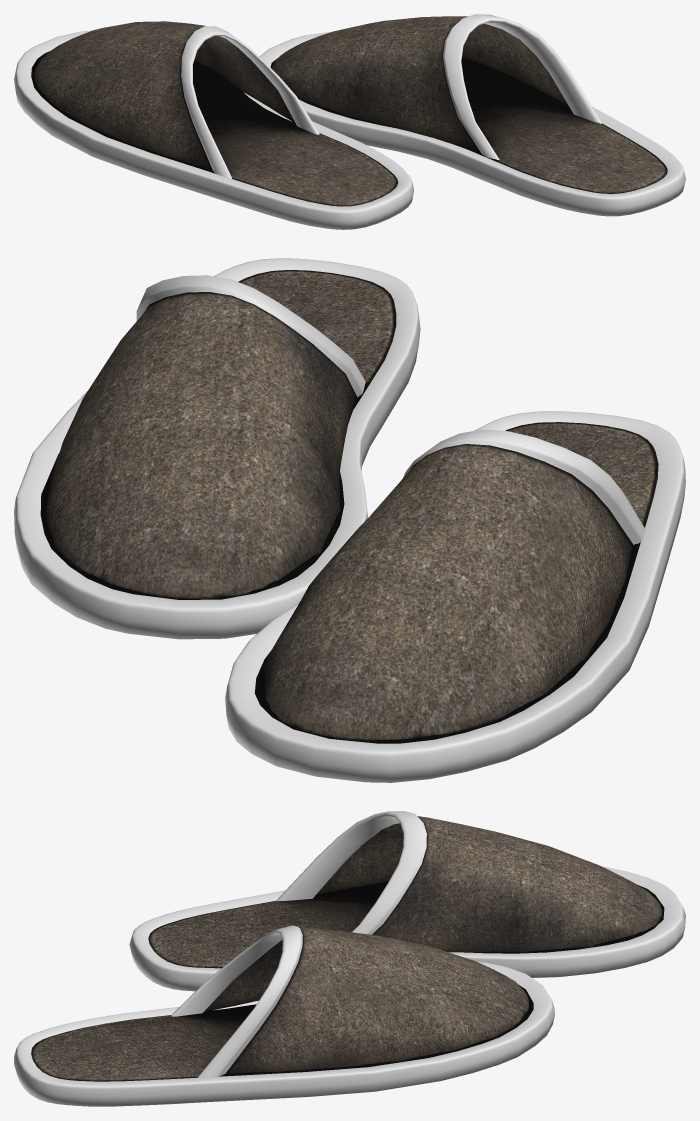
Rendered from slippers.fbx.
3 views of the same model, one above another, from view 1: azimuth 30°, elevation 25°; view 2: azimuth 150°, elevation 25°; view 3: azimuth 270°, elevation 25° (orthographic). The views are drawn at different scales.
Visible parts, largest first — view 1: Object_3, Object_2; view 2: Object_3, Object_2; view 3: Object_3, Object_2.
Part boxes in pixels (x1,y1,x2,y2): Object_3: (31, 16, 667, 206); Object_2: (14, 14, 685, 229); Object_3: (40, 270, 658, 743); Object_2: (14, 258, 685, 782); Object_3: (31, 816, 664, 1081); Object_2: (14, 811, 685, 1106).
Bounding box in the file's own units: 561 × 139 × 699.
2 materials, 1 textured.
